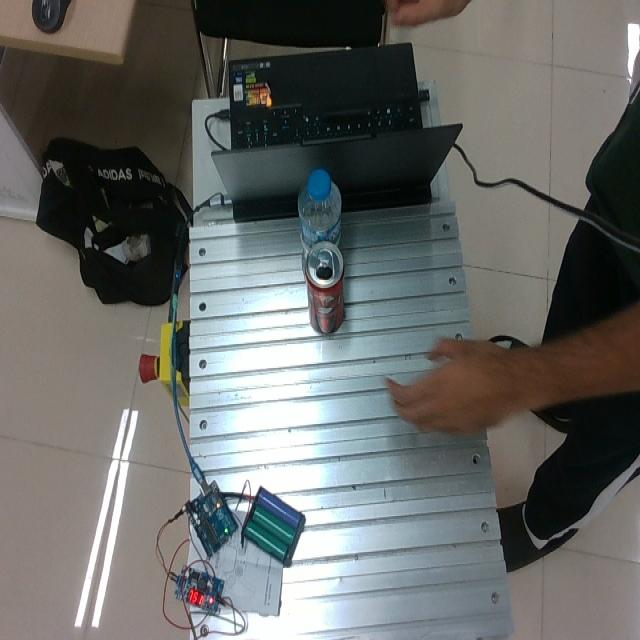coca: (303, 240, 345, 335)
lavie: (297, 168, 342, 279)
